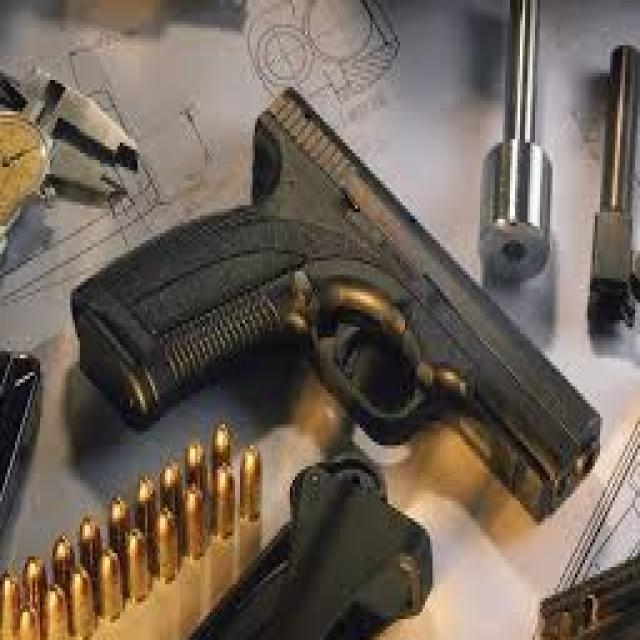Gun: (60, 122, 578, 508)
